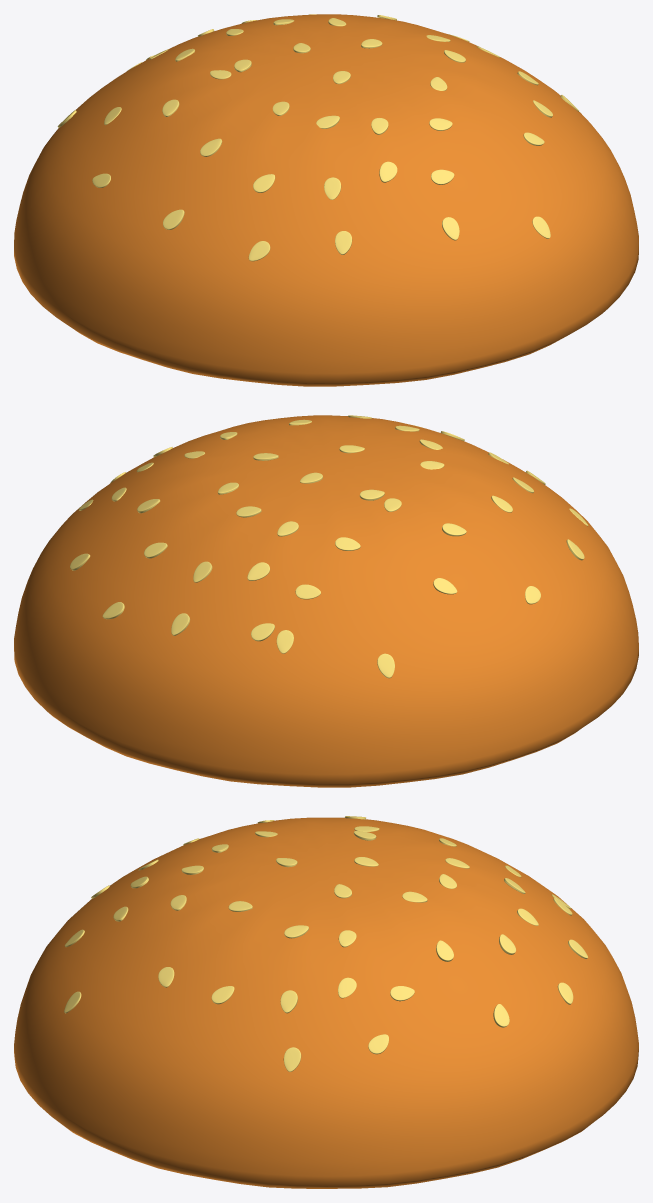
The model's file is hamburger_bread_top.fbx.
3 renders of one model, top to bottom at view 1: azimuth 30°, elevation 25°; view 2: azimuth 150°, elevation 25°; view 3: azimuth 270°, elevation 25°, orthographic.
Parts seen in each view (by area): view 1: bread_top; view 2: bread_top; view 3: bread_top.
Boxes of the visible parts, x1=… form: bread_top: x1=14, y1=14, x2=638, y2=386; bread_top: x1=14, y1=415, x2=638, y2=787; bread_top: x1=14, y1=817, x2=638, y2=1188.
Bounding box in the file's own units: 109 × 39.89 × 109.
